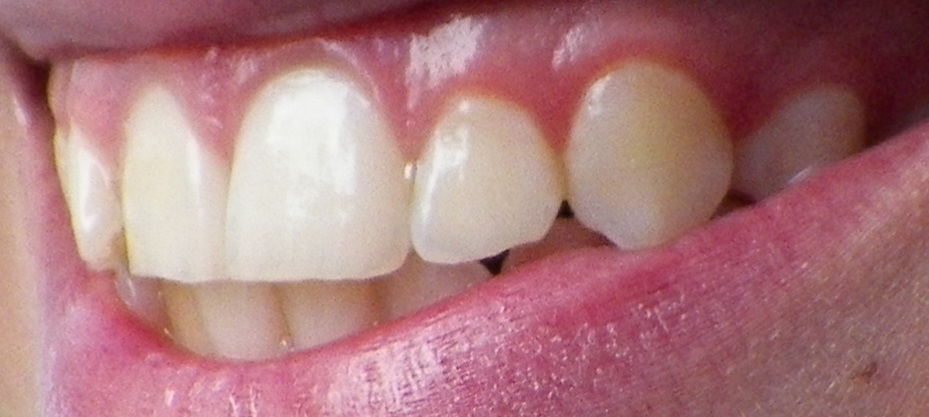boca: (49, 75, 876, 368)
